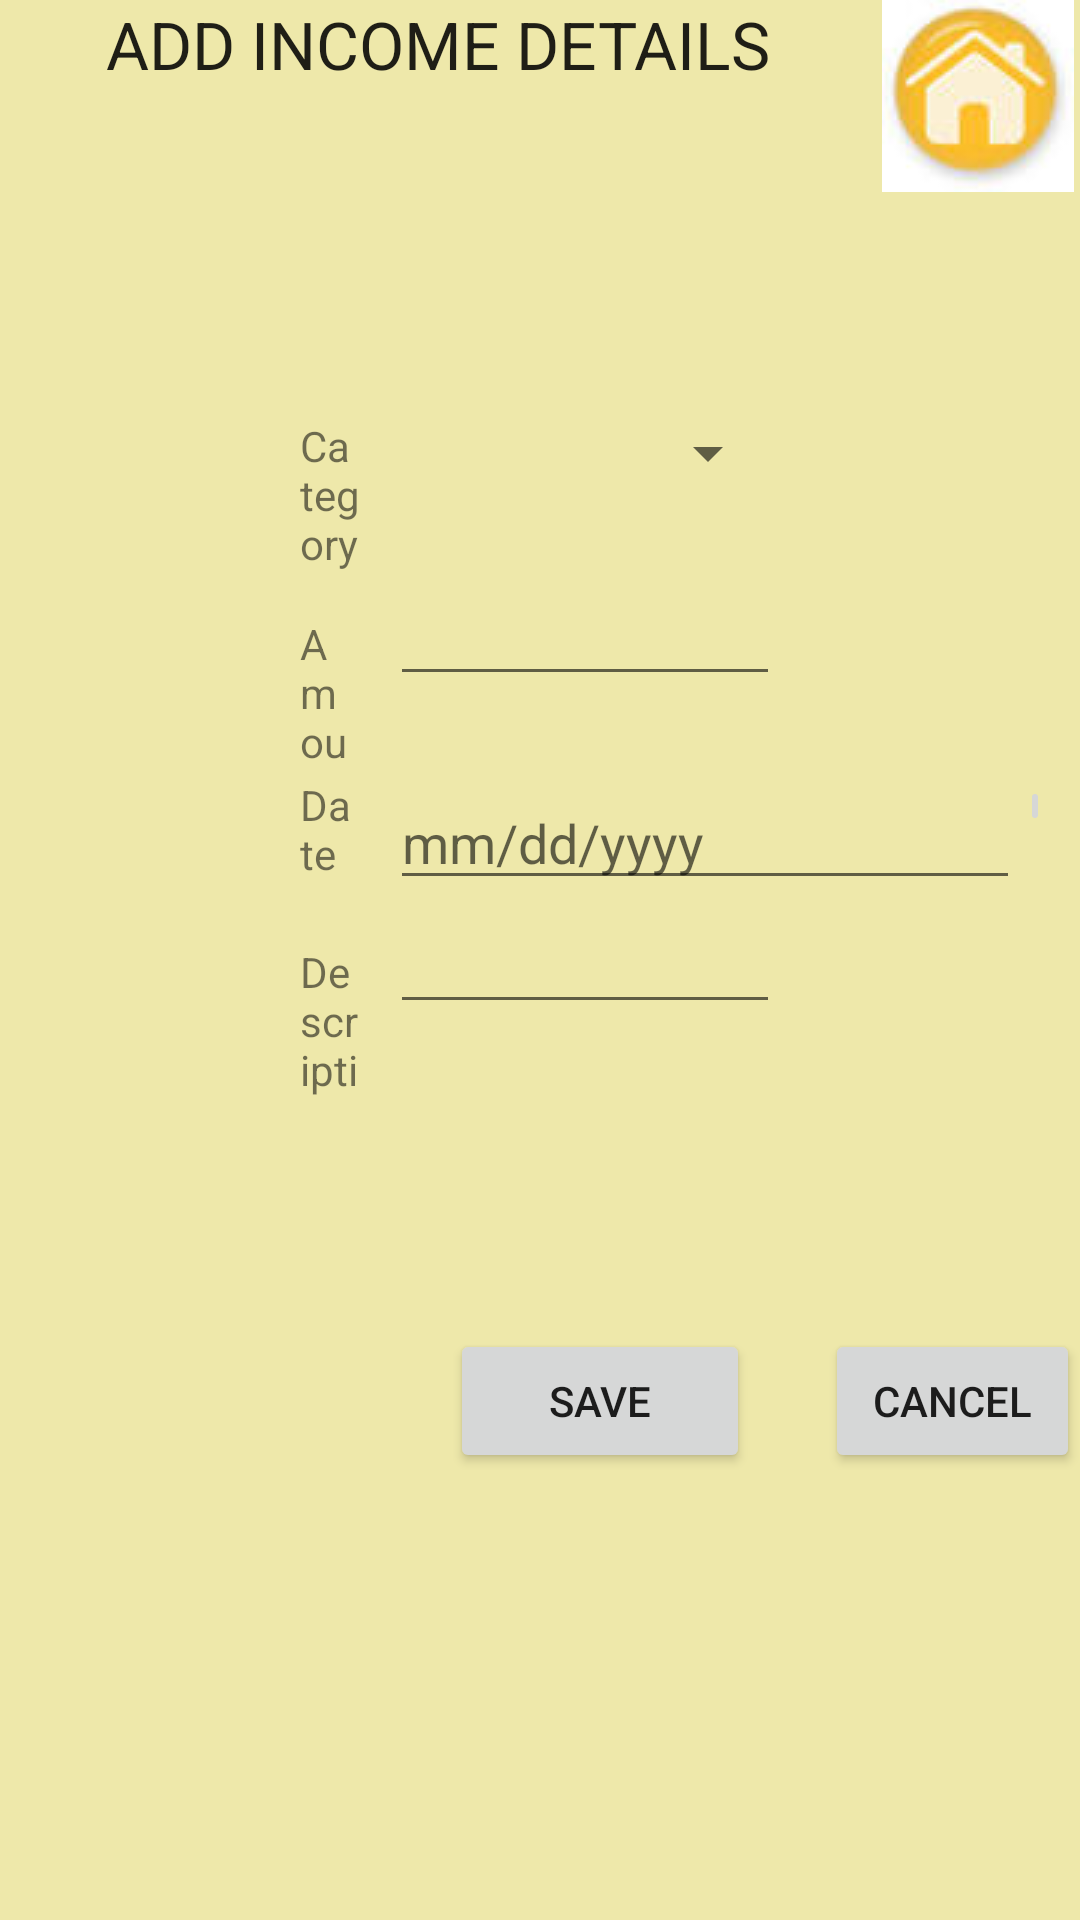

Icons on this 1080px x 1920px Android screen, each with the point to tap as [x,y]:
Home: [978,96]
